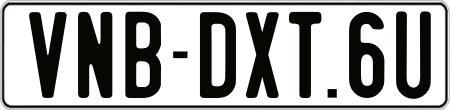6: (349, 10, 388, 101)
B: (122, 10, 164, 99)
D: (198, 11, 236, 100)
N: (75, 12, 109, 100)
T: (286, 11, 321, 97)
U: (394, 8, 429, 99)
V: (29, 11, 69, 99)
X: (245, 9, 278, 96)
